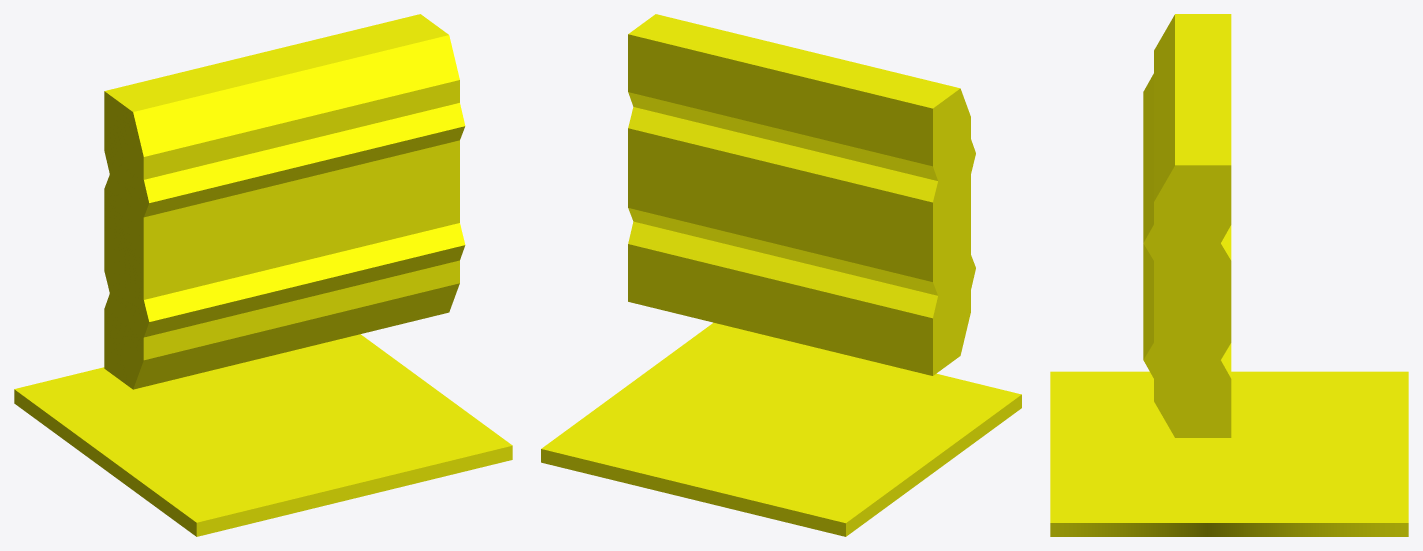
Rendered from parking_border00.glb.
3 renders of one model, left to right at view 1: azimuth 30°, elevation 25°; view 2: azimuth 150°, elevation 25°; view 3: azimuth 270°, elevation 25°, orthographic. The views are drawn at different scales.
Parts seen in each view (by area): view 1: parking_border00; view 2: parking_border00; view 3: parking_border00.
Boxes of the visible parts, x1,y1,x2,y2 form: parking_border00: (14,14,512,536); parking_border00: (541,14,1021,536); parking_border00: (1050,14,1408,536).
Bounding box in the file's own units: 0.9 × 1.03 × 0.9.
1 material, 1 textured.
